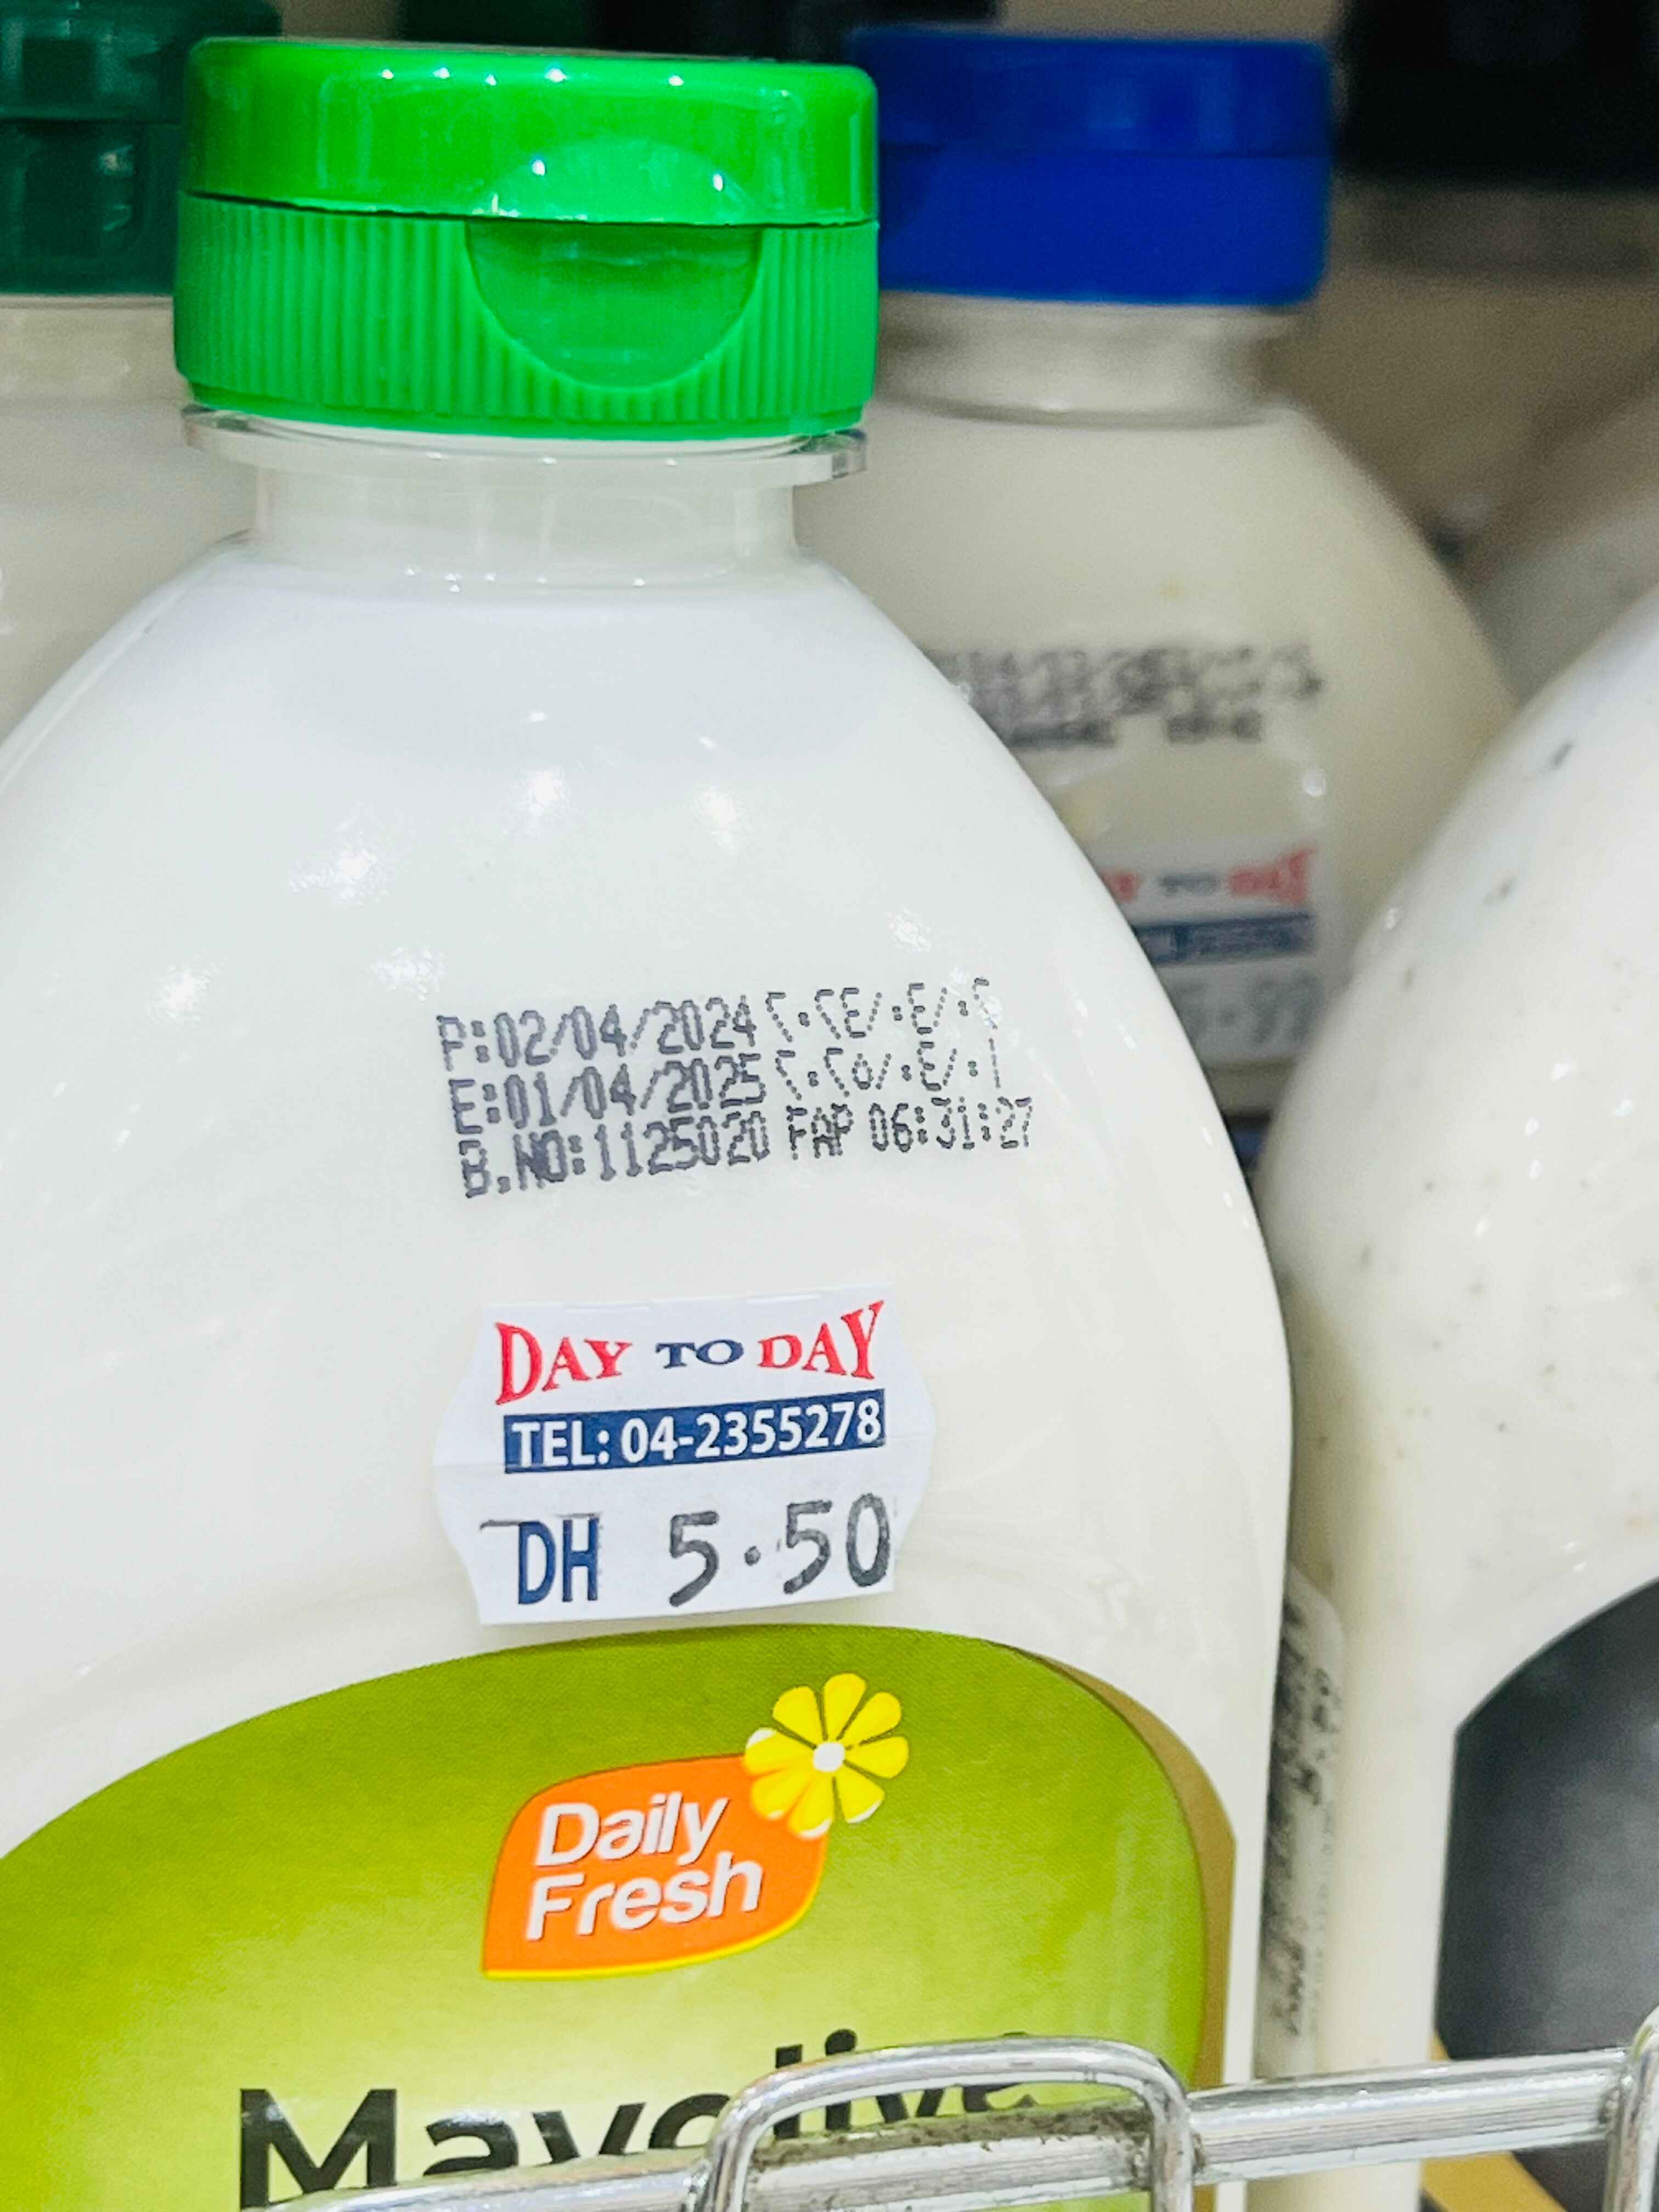PriceTagSmall: (441, 1308, 920, 1620), (1091, 838, 1363, 1071)
